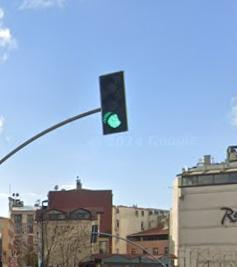greenlight: (100, 73, 127, 134)
